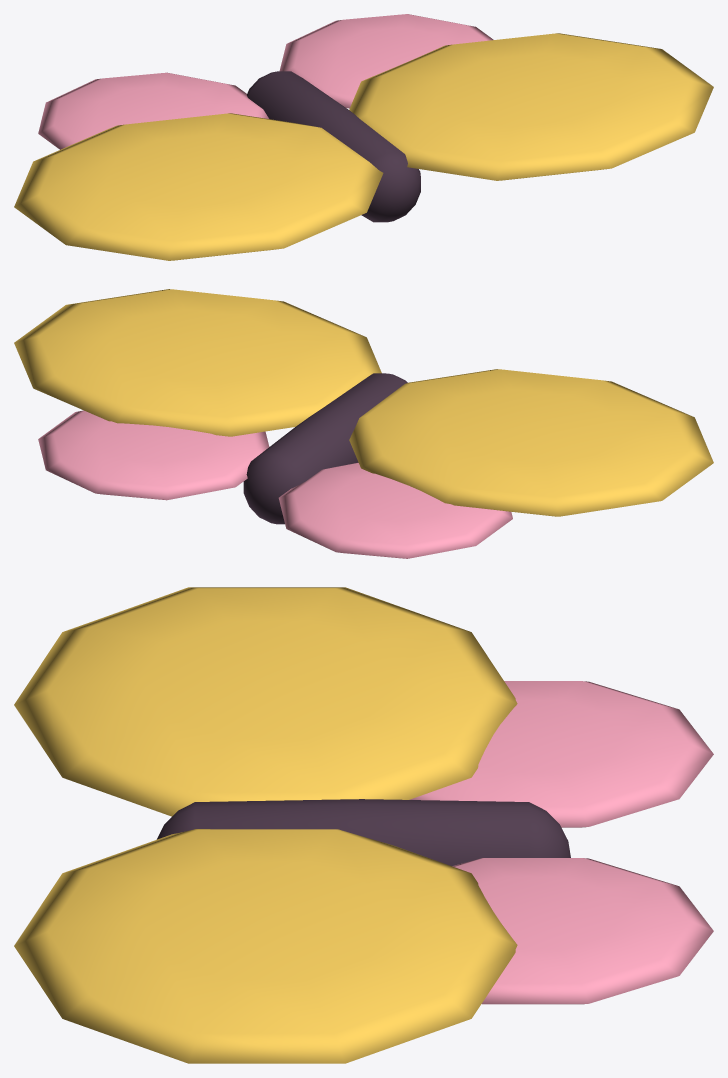
Rendered from Butterfly3D.fbx.
3 views of the same model, one above another, from view 1: azimuth 30°, elevation 25°; view 2: azimuth 150°, elevation 25°; view 3: azimuth 270°, elevation 25° (orthographic). The views are drawn at different scales.
Visible parts, largest first — view 1: WingL.001, WingR.001, ButterflyBody; view 2: WingL.001, WingR.001, ButterflyBody; view 3: WingR.001, WingL.001, ButterflyBody.
Part boxes in pixels (bbox=[...]): WingL.001: bbox=[14, 72, 383, 260]; WingR.001: bbox=[279, 14, 713, 180]; ButterflyBody: bbox=[247, 71, 420, 222]; WingL.001: bbox=[278, 369, 713, 558]; WingR.001: bbox=[14, 289, 381, 500]; ButterflyBody: bbox=[243, 373, 407, 524]; WingR.001: bbox=[14, 829, 713, 1063]; WingL.001: bbox=[14, 587, 713, 827]; ButterflyBody: bbox=[157, 799, 570, 866].
Size of the model in its own units: 0.5929 by 0.0688 by 0.368.
